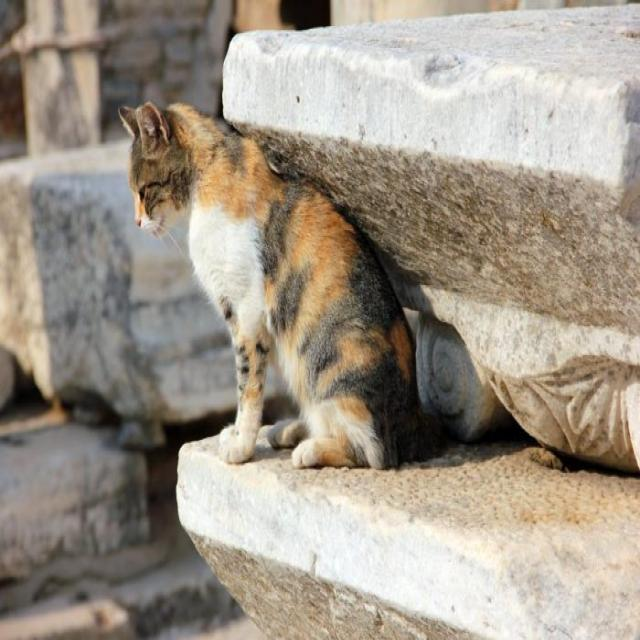cat: (120, 103, 441, 468)
